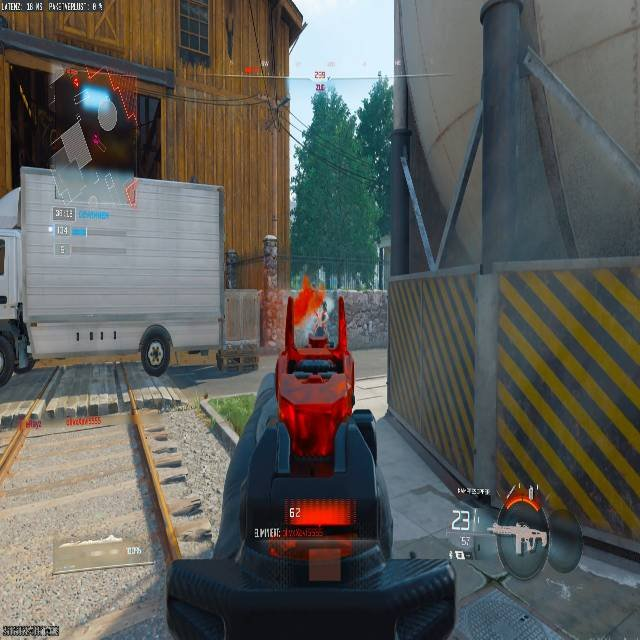player: (259, 235, 280, 284)
